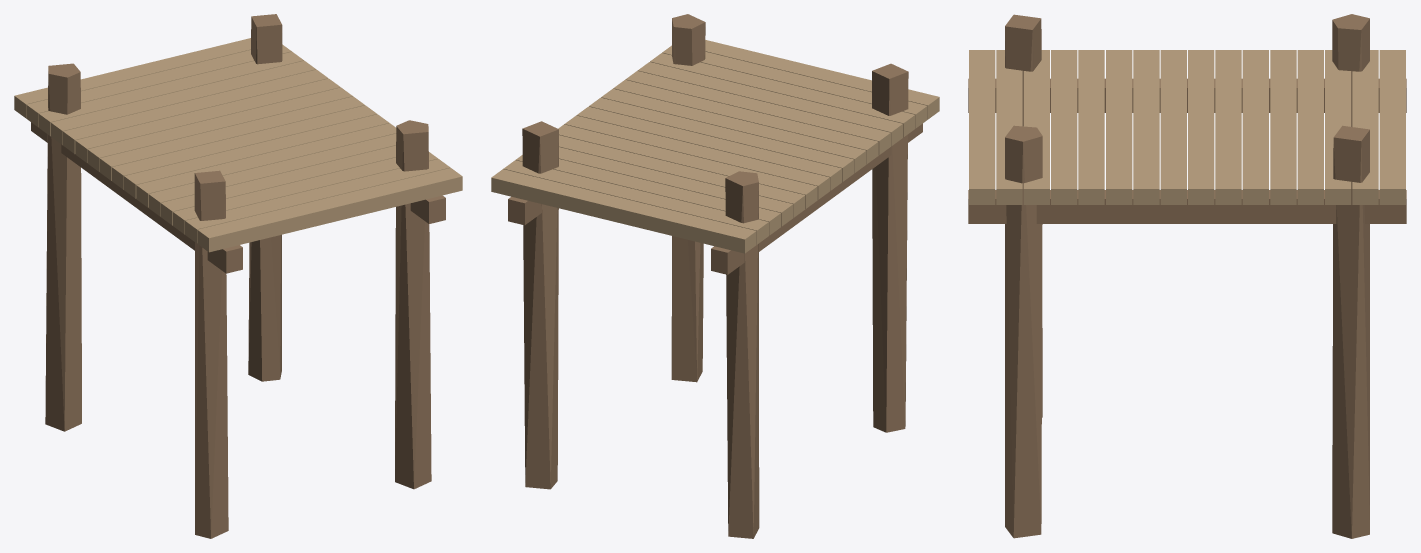
File: harbor.pier.lod1.glb
The picture shows the model from 3 angles, left to right: view 1: azimuth 30°, elevation 25°; view 2: azimuth 150°, elevation 25°; view 3: azimuth 270°, elevation 25°; orthographic projection. The views are drawn at different scales.
Visible parts, largest first — view 1: Piling.001, Piling.002, Piling, DeckPlank, Piling.003, DeckPlank.006, DeckPlank.008, DeckPlank.009, DeckPlank.010, DeckPlank.011, DeckPlank.007, DeckPlank.012 (+10 smaller); view 2: Piling, Piling.003, Piling.001, DeckPlank.015, Piling.002, DeckPlank.006, DeckPlank.007, DeckPlank.009, DeckPlank.004, DeckPlank.005, DeckPlank.003, DeckPlank.008 (+10 smaller); view 3: Piling.003, Piling.002, Bearer.001, DeckPlank, DeckPlank.003, DeckPlank.004, DeckPlank.005, DeckPlank.006, DeckPlank.007, DeckPlank.008, DeckPlank.009, DeckPlank.010 (+10 smaller).
Part boxes in pixels (left/top/right/bottom): Piling.001: left=45, top=63, right=81, bottom=431; Piling.002: left=395, top=120, right=431, bottom=489; Piling: left=194, top=170, right=228, bottom=538; DeckPlank: left=197, top=168, right=462, bottom=252; Piling.003: left=248, top=14, right=282, bottom=381; DeckPlank.006: left=124, top=114, right=389, bottom=198; DeckPlank.008: left=99, top=96, right=364, bottom=180; DeckPlank.009: left=87, top=87, right=352, bottom=171; DeckPlank.010: left=75, top=78, right=340, bottom=162; DeckPlank.011: left=63, top=69, right=328, bottom=153; DeckPlank.007: left=112, top=105, right=376, bottom=189; DeckPlank.012: left=51, top=60, right=316, bottom=145; Piling: left=872, top=63, right=908, bottom=432; Piling.003: left=522, top=121, right=558, bottom=489; Piling.001: left=725, top=171, right=759, bottom=538; DeckPlank.015: left=491, top=169, right=756, bottom=253; Piling.002: left=671, top=14, right=705, bottom=382; DeckPlank.006: left=601, top=88, right=866, bottom=173; DeckPlank.007: left=589, top=97, right=854, bottom=181; DeckPlank.009: left=564, top=115, right=829, bottom=199; DeckPlank.004: left=625, top=71, right=890, bottom=155; DeckPlank.005: left=613, top=79, right=878, bottom=163; DeckPlank.003: left=637, top=62, right=902, bottom=146; DeckPlank.008: left=576, top=106, right=841, bottom=190; Piling.003: left=1332, top=125, right=1369, bottom=538; Piling.002: left=1005, top=125, right=1042, bottom=538; Bearer.001: left=968, top=190, right=1406, bottom=223; DeckPlank: left=969, top=50, right=995, bottom=204; DeckPlank.003: left=1051, top=50, right=1077, bottom=204; DeckPlank.004: left=1078, top=50, right=1104, bottom=204; DeckPlank.005: left=1106, top=50, right=1132, bottom=204; DeckPlank.006: left=1133, top=50, right=1159, bottom=204; DeckPlank.007: left=1160, top=50, right=1186, bottom=204; DeckPlank.008: left=1188, top=50, right=1214, bottom=204; DeckPlank.009: left=1215, top=50, right=1241, bottom=204; DeckPlank.010: left=1242, top=50, right=1268, bottom=204.
Bounding box in the file's own units: 3 × 4 × 4.
